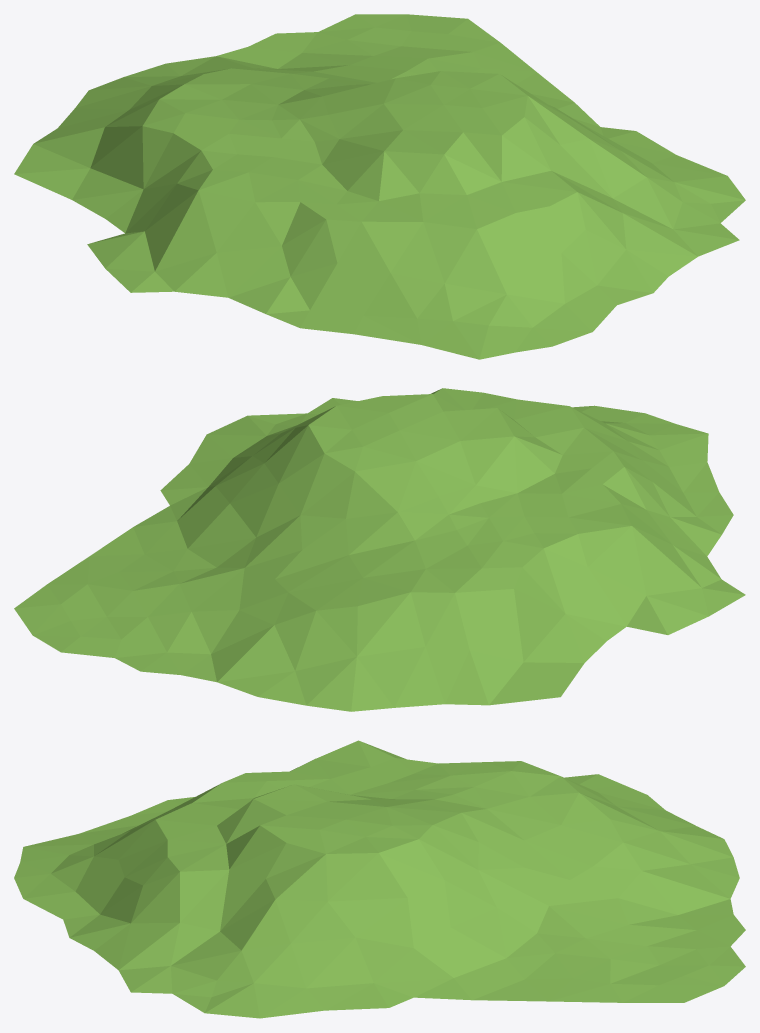
Rendered from MT_Mountain_M_c_17_LOD.fbx.
The picture shows the model from 3 angles, top to bottom: view 1: azimuth 30°, elevation 25°; view 2: azimuth 150°, elevation 25°; view 3: azimuth 270°, elevation 25°; orthographic projection. The views are drawn at different scales.
Parts seen in each view (by area): view 1: MT_Mountain_M_c_17_LOD0; view 2: MT_Mountain_M_c_17_LOD0; view 3: MT_Mountain_M_c_17_LOD0.
Boxes of the visible parts, box(x1,y1,x2,y2) form: MT_Mountain_M_c_17_LOD0: box(14, 14, 745, 359); MT_Mountain_M_c_17_LOD0: box(14, 388, 745, 711); MT_Mountain_M_c_17_LOD0: box(14, 740, 745, 1018).
Size of what is drawn, in the model's own units: 3906 by 646 by 4648.
